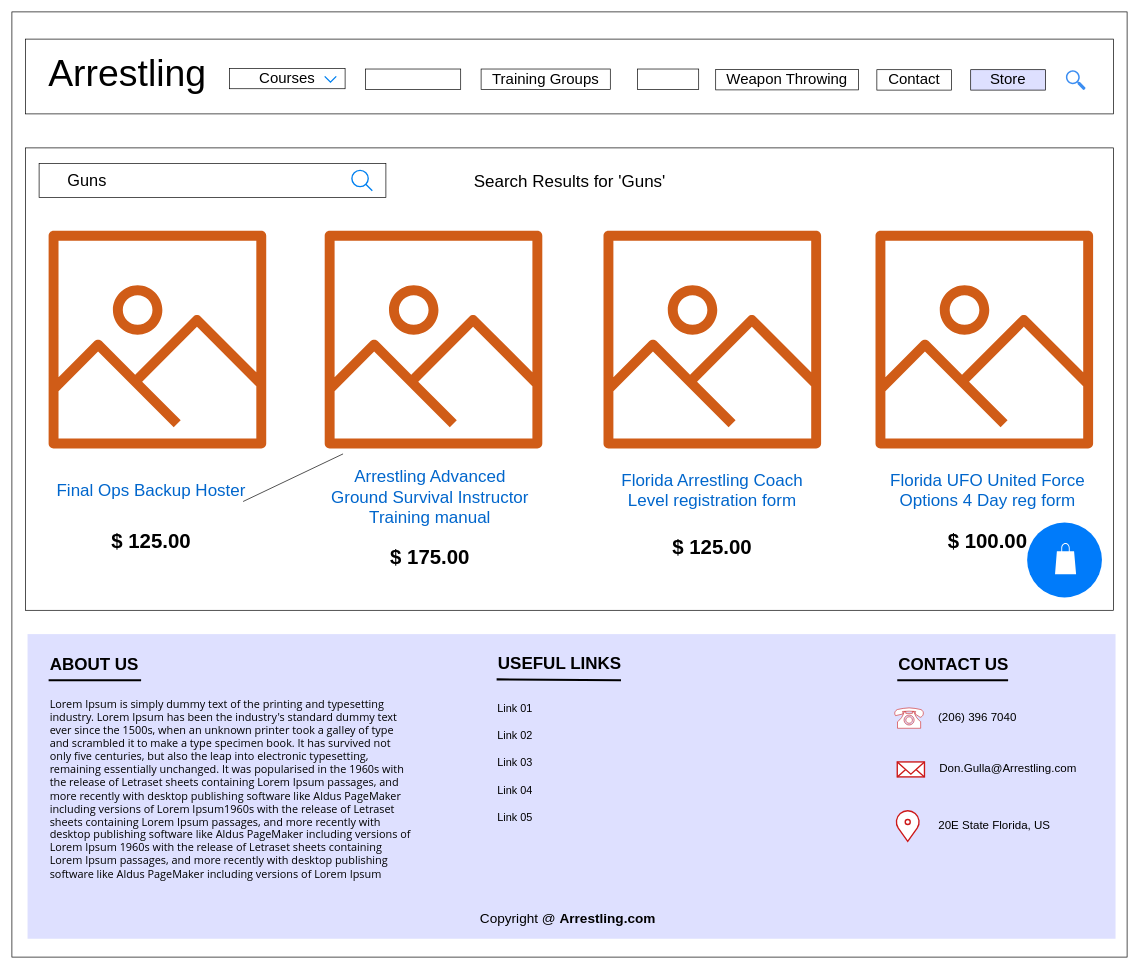
Some shapes in this 1139 by 969 pixel diagram are drawn without their labels. Each missing label, with the centre of its shape:
"About" belongs at (668,78).
"Schedule" belongs at (413,78).
